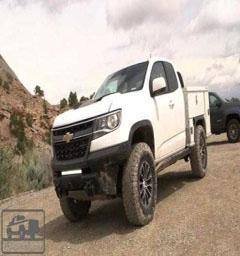car: (32, 50, 228, 229)
